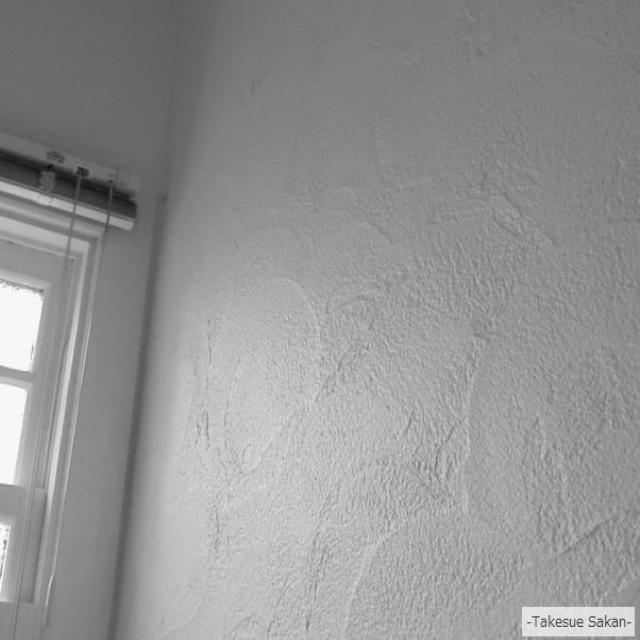trowels marks: (167, 0, 640, 639)
